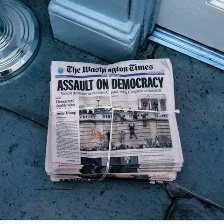news_paper: (44, 55, 186, 188)
